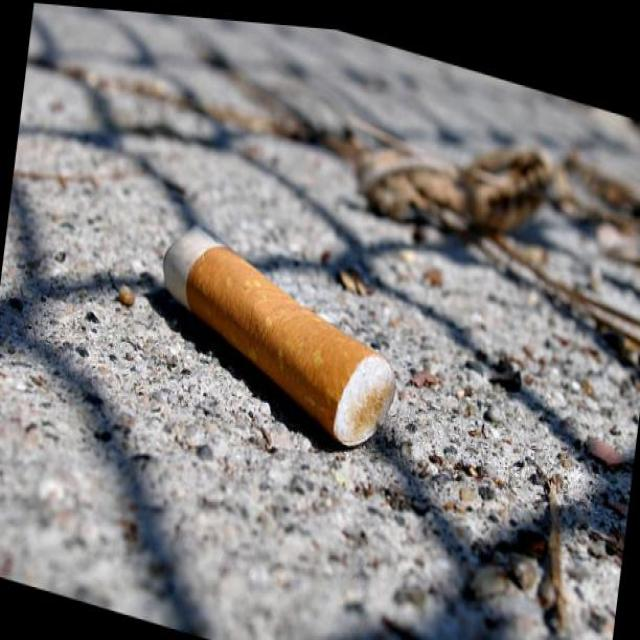cigarette: (147, 210, 410, 454)
